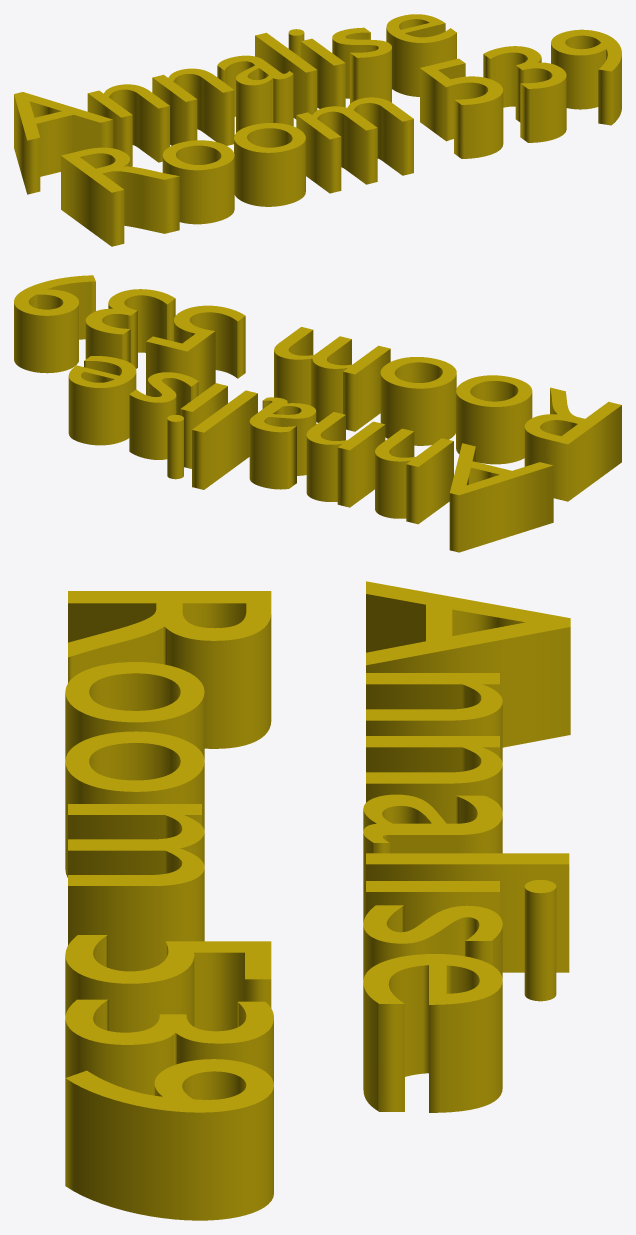
The model's file is annalise-539.gltf.
3 renders of one model, top to bottom at view 1: azimuth 30°, elevation 25°; view 2: azimuth 150°, elevation 25°; view 3: azimuth 270°, elevation 25°, orthographic. The views are drawn at different scales.
Visible parts, largest first — view 1: Text; view 2: Text; view 3: Text.
Boxes of the visible parts, bbox=[...] form: Text: bbox=[14, 14, 621, 246]; Text: bbox=[14, 275, 621, 552]; Text: bbox=[65, 581, 570, 1220].
Bounding box in the file's own units: 4.22 × 0.4 × 1.69.
